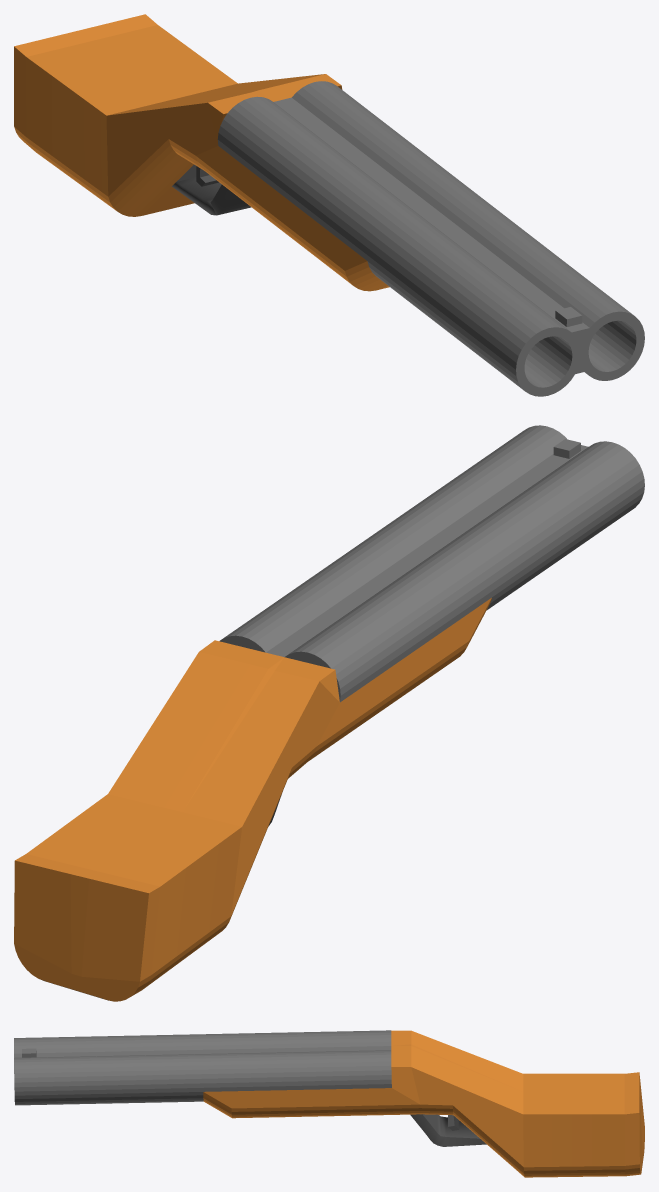
Rendered from escopeta.fbx.
The picture shows the model from 3 angles, top to bottom: view 1: azimuth 30°, elevation 25°; view 2: azimuth 150°, elevation 25°; view 3: azimuth 270°, elevation 25°; orthographic projection. The views are drawn at different scales.
Parts seen in each view (by area): view 1: Cilindro; view 2: Cilindro; view 3: Cilindro.
Boxes of the visible parts, box(x1,y1,x2,y2) form: Cilindro: box(14, 14, 644, 396); Cilindro: box(14, 425, 644, 1001); Cilindro: box(14, 1030, 644, 1177).
Size of the model in its own units: 151 by 207 by 951.
